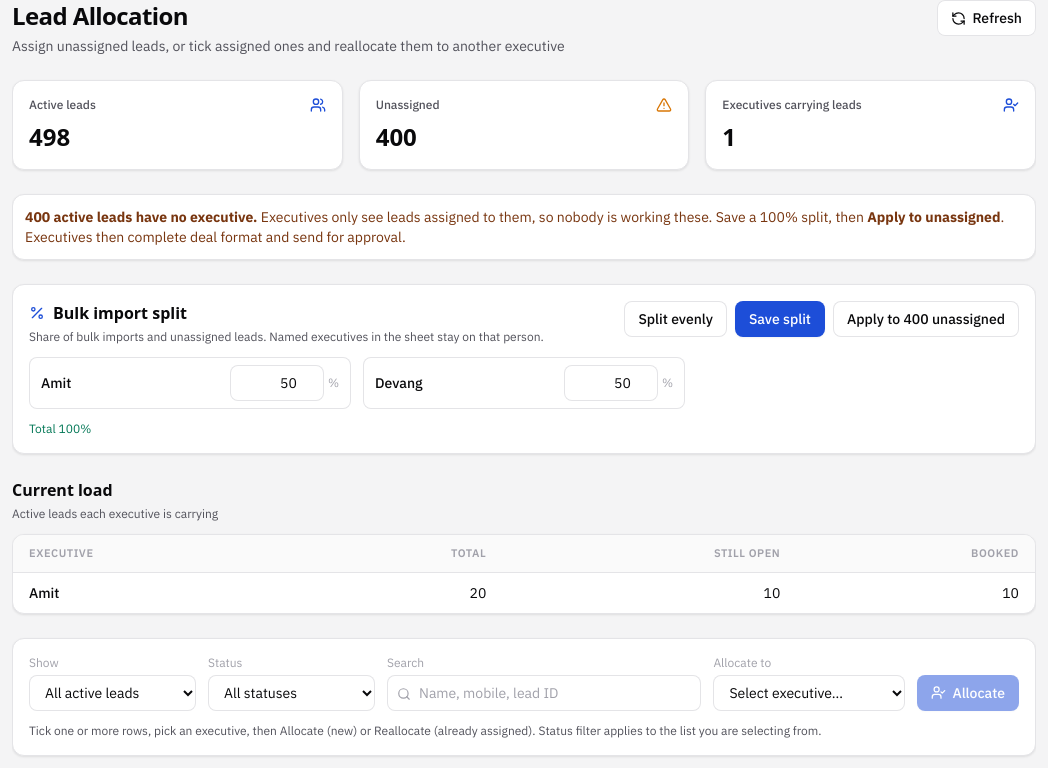
selected assigned leads can be reallocated to another executive
The width and height of the screenshot is (1048, 768).
Later steps or results of the test are not shown.
Select "All active leads" in the dropdown with test id "alloc-filter" at {"x": 112, "y": 692}, box [29,674,196,710]
(page scrolled)
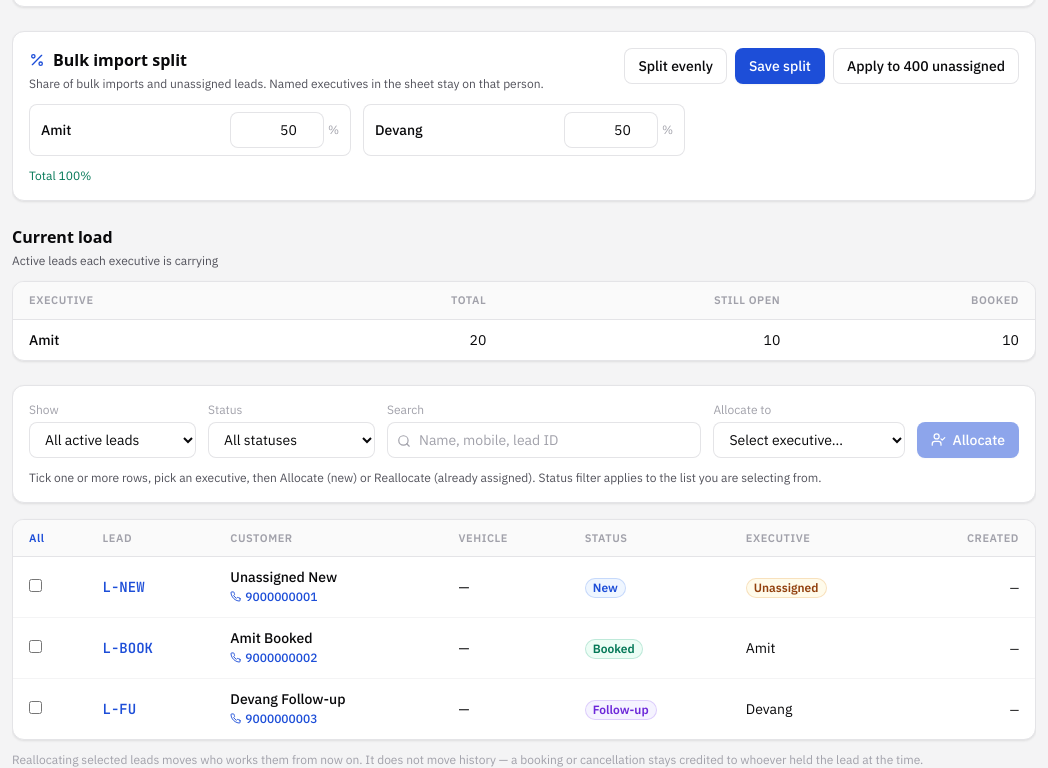
Click the checkbox with test id "pick-L-BOOK".
click(36, 646)  # box [29,640,42,653]
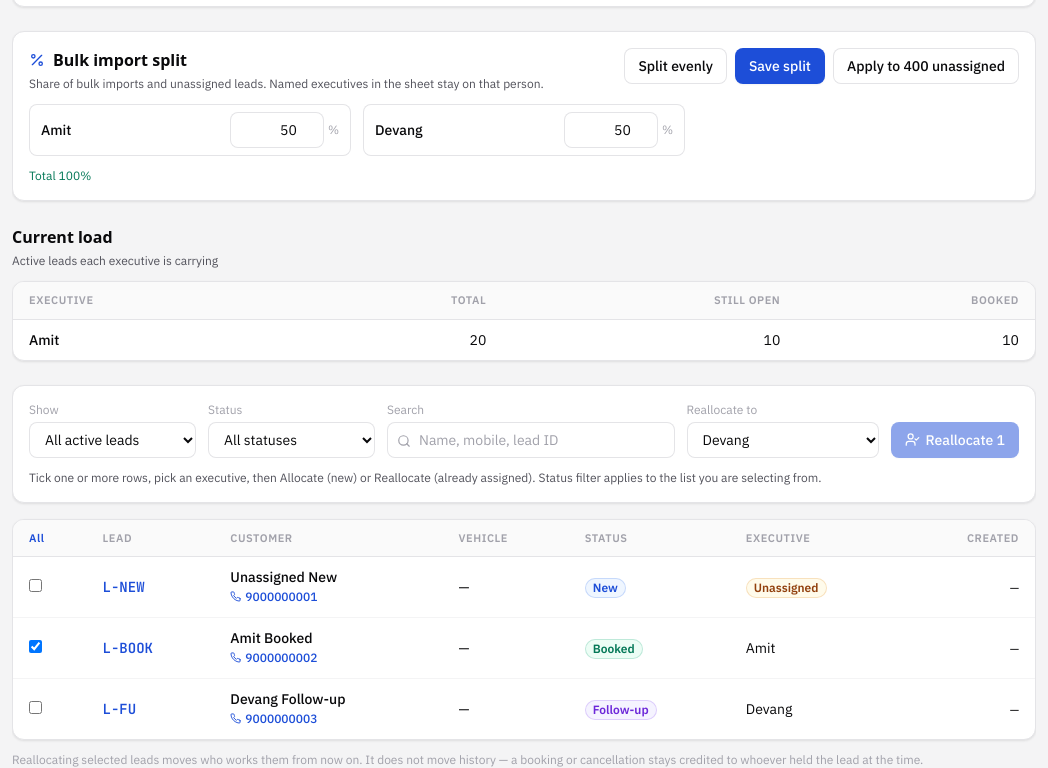
Result: the button with test id "alloc-btn" reads "Reallocate 1" at [890,422,1019,458]
